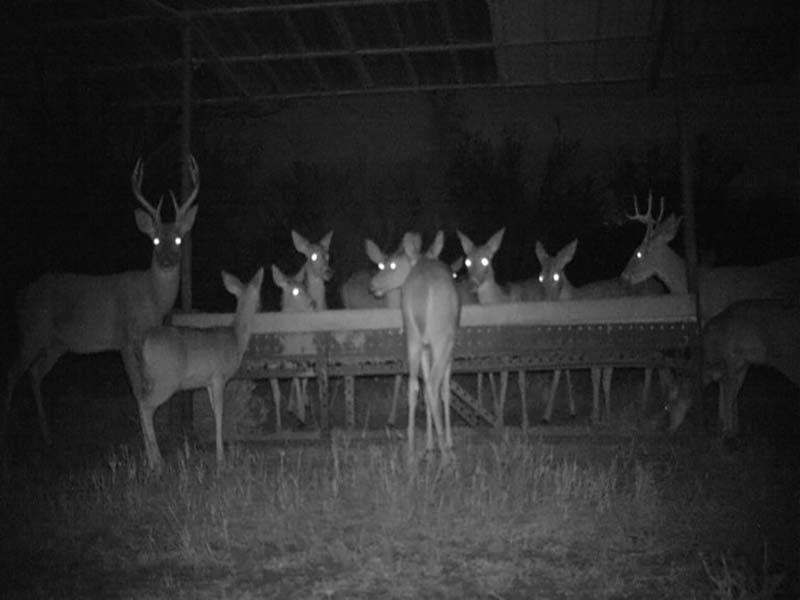cervo: (15, 161, 202, 459), (114, 265, 269, 469), (618, 193, 799, 312), (398, 231, 461, 471), (526, 238, 621, 301), (452, 223, 510, 302), (358, 232, 417, 301), (287, 222, 340, 290), (267, 262, 321, 316)
